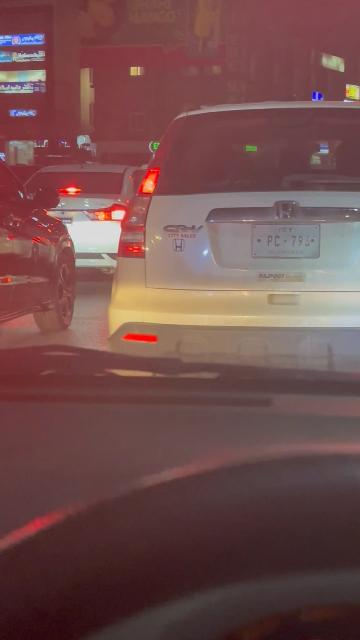plate: (251, 224, 321, 258)
